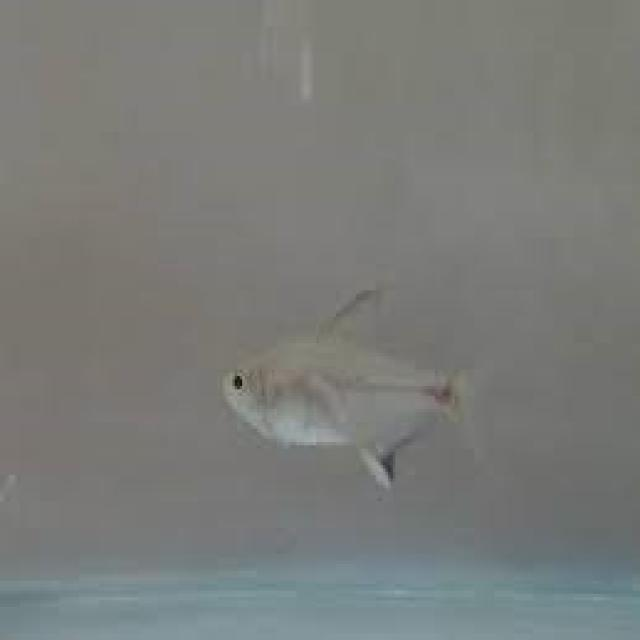Glass-Perchlet: (194, 257, 532, 514)
